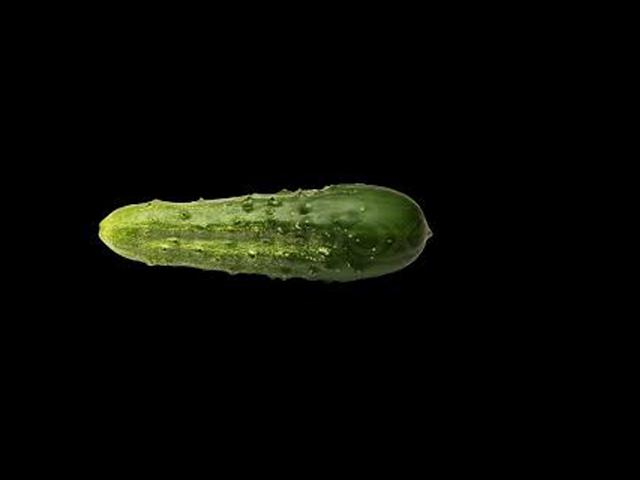cucumber: (99, 183, 432, 284)
